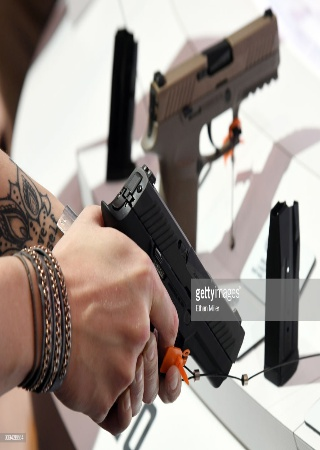handgun: (95, 162, 245, 392), (145, 6, 281, 247)
